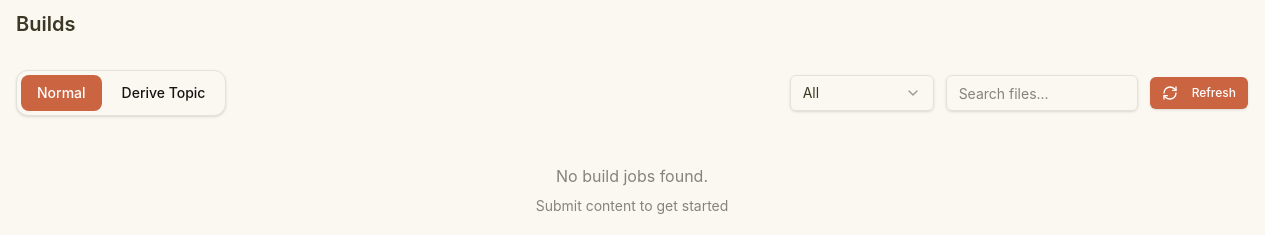
Test: Builds page › switches tabs via StatsBar clicks using replace navigation
Click the button "Derive Topic".
click(164, 93)  # box [106,75,222,111]
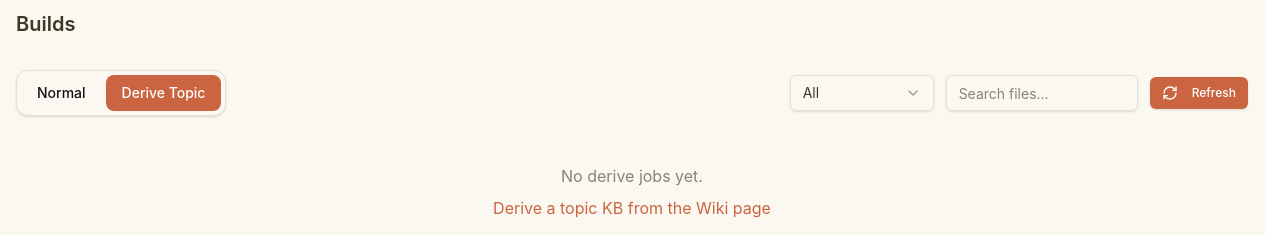
Result: the text "No derive jobs yet." is shown at [561,166,703,186]
